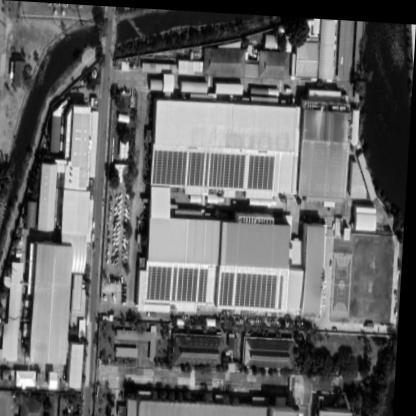solar-pv-panel: (155, 148, 276, 186), (223, 269, 286, 306), (150, 264, 211, 301)
